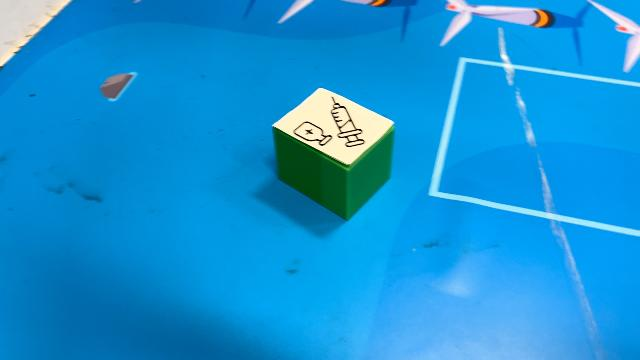syringe: (271, 87, 395, 221)
